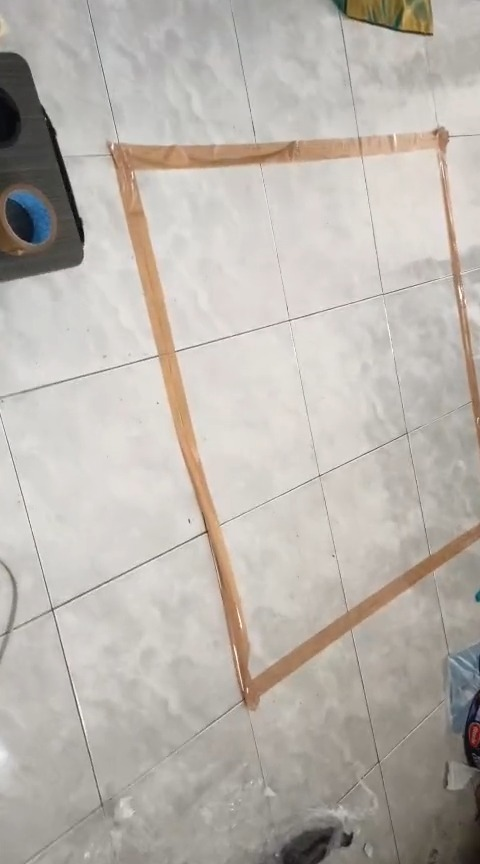floor marking: (109, 129, 479, 708)
